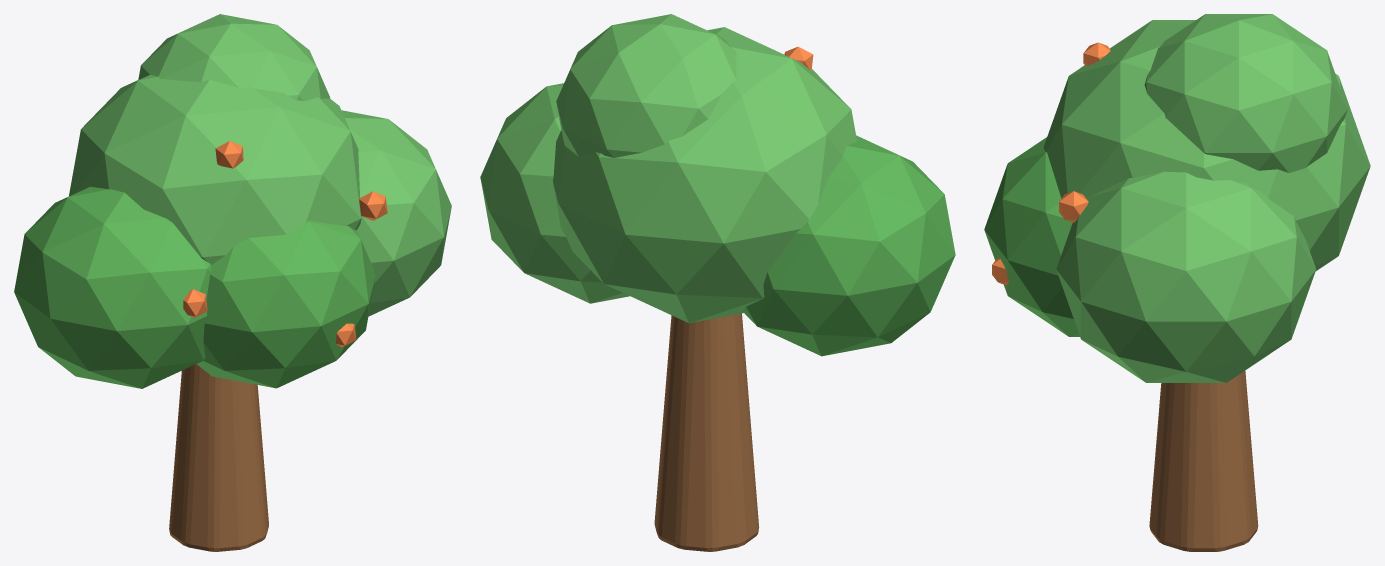
File: cay.glb
3 views of the same model, side by side, from view 1: azimuth 30°, elevation 25°; view 2: azimuth 150°, elevation 25°; view 3: azimuth 270°, elevation 25° (orthographic). The views are drawn at different scales.
Visible parts, largest first — view 1: cay-1, cay-2, cay-4, cay-0, cay-3, cay-5, cay-7, cay-9, cay-6; view 2: cay-1, cay-2, cay-0, cay-5, cay-3; view 3: cay-3, cay-1, cay-5, cay-0, cay-4, cay-7.
Part boxes in pixels (x1=…): cay-1: x1=69, y1=74, x2=361, y2=264; cay-2: x1=14, y1=186, x2=211, y2=388; cay-4: x1=197, y1=221, x2=375, y2=388; cay-0: x1=169, y1=364, x2=268, y2=551; cay-3: x1=341, y1=110, x2=451, y2=316; cay-5: x1=138, y1=14, x2=330, y2=101; cay-7: x1=359, y1=191, x2=387, y2=220; cay-9: x1=215, y1=141, x2=243, y2=168; cay-6: x1=183, y1=289, x2=207, y2=317; cay-1: x1=553, y1=27, x2=856, y2=323; cay-2: x1=742, y1=135, x2=955, y2=356; cay-0: x1=654, y1=313, x2=759, y2=551; cay-5: x1=556, y1=14, x2=736, y2=157; cay-3: x1=480, y1=83, x2=629, y2=303; cay-3: x1=1056, y1=171, x2=1316, y2=382; cay-1: x1=1043, y1=20, x2=1370, y2=270; cay-5: x1=1144, y1=14, x2=1347, y2=172; cay-0: x1=1149, y1=371, x2=1258, y2=551; cay-4: x1=984, y1=137, x2=1079, y2=336; cay-7: x1=1059, y1=191, x2=1088, y2=222.
Bounding box in the file's own units: 2.89 × 3.31 × 2.2.
